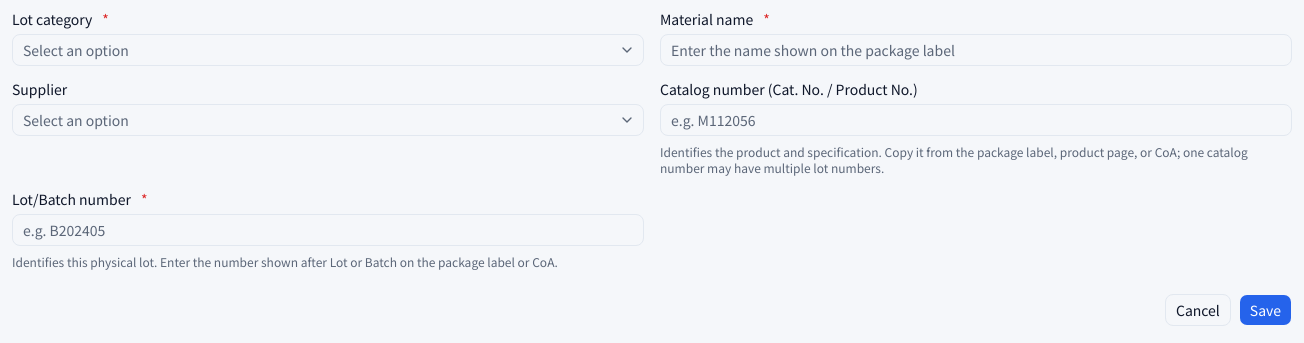
EntityForm — setup identity inputs › reuses non-empty values from the latest entity versions as options
Click the dropdown named "Supplier" at x=76, y=120, box [12, 104, 644, 136]
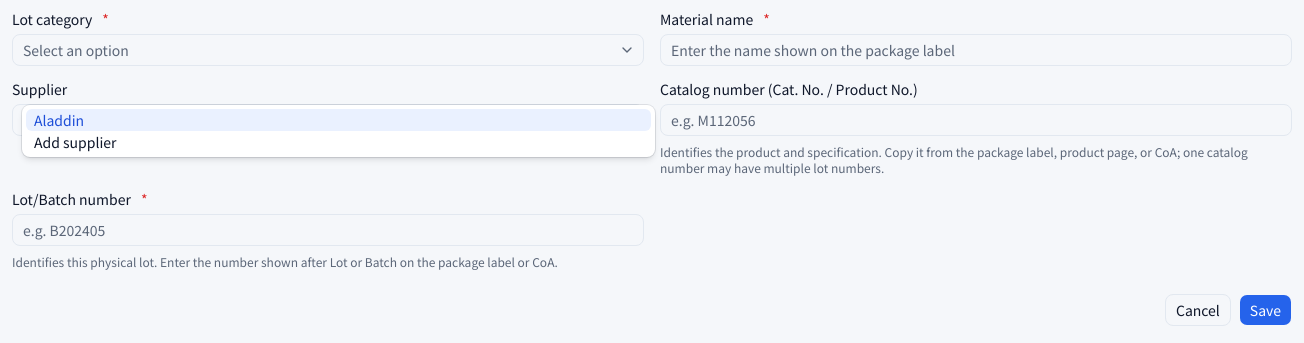
Check: the option "Aladdin" is shown, box [26, 109, 651, 131]
